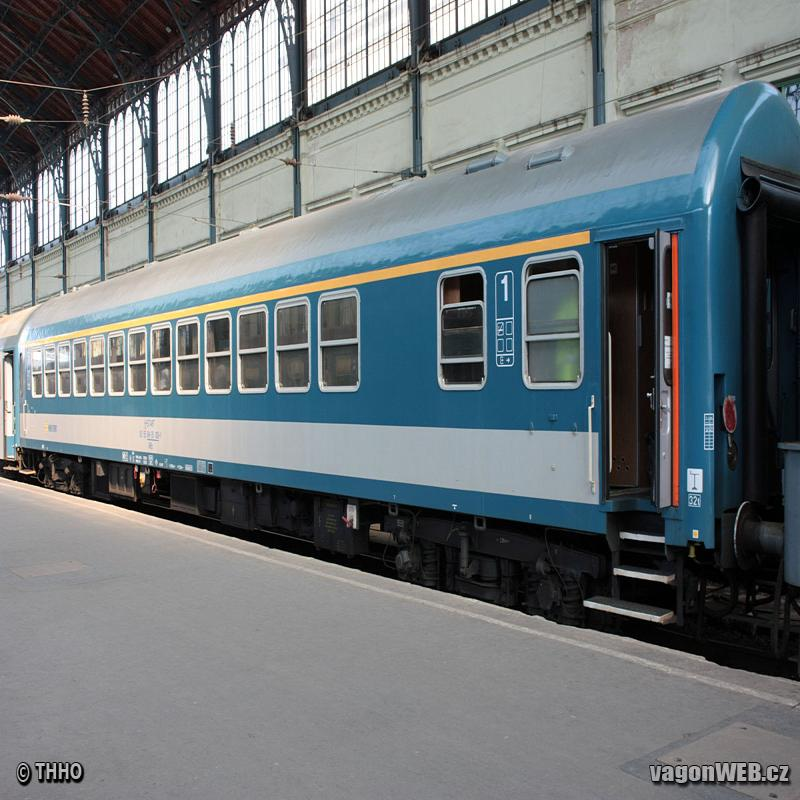train: (19, 82, 800, 655)
